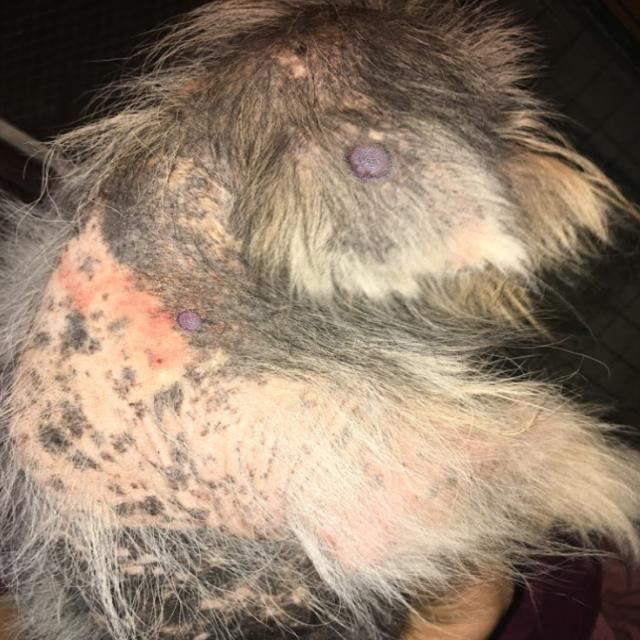ringworm: (336, 127, 423, 206)
